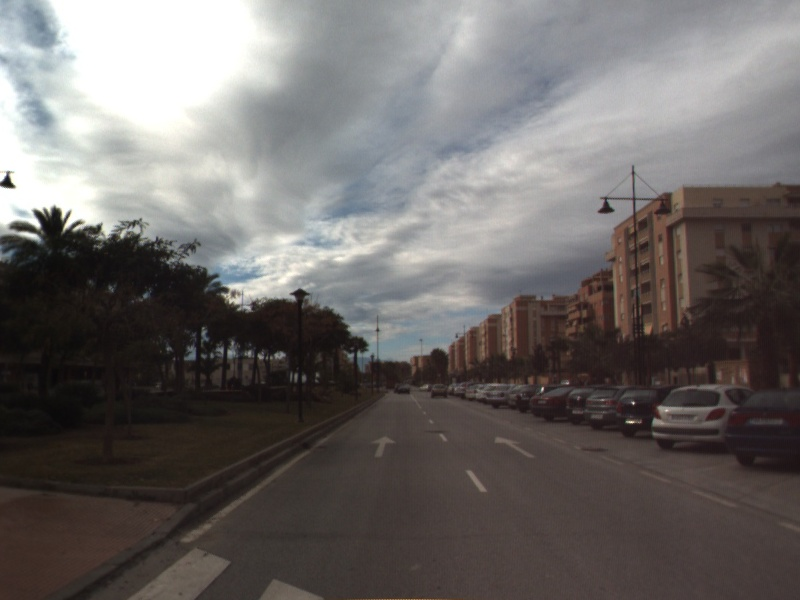STRAIGHT: (493, 435, 537, 459), (369, 433, 397, 459)
